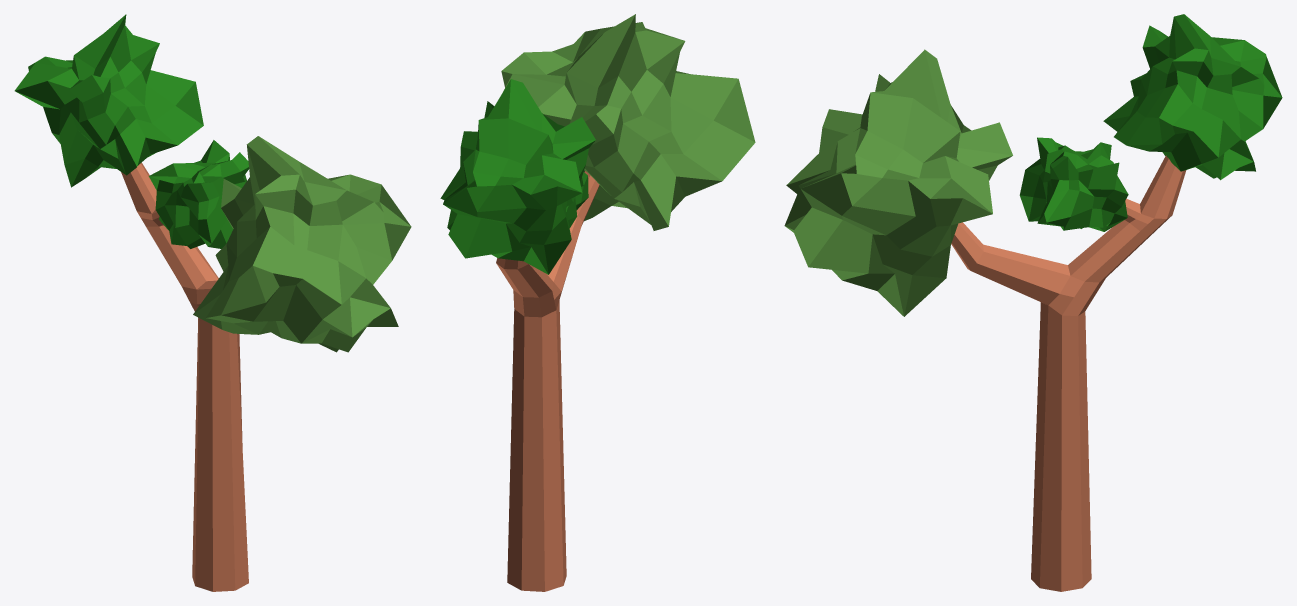
The model's file is Tree_03_summer_mat.fbx.
3 renders of one model, left to right at view 1: azimuth 30°, elevation 25°; view 2: azimuth 150°, elevation 25°; view 3: azimuth 270°, elevation 25°, orthographic. The views are drawn at different scales.
Visible parts, largest first — view 1: Tree_03_summer_mat; view 2: Tree_03_summer_mat; view 3: Tree_03_summer_mat.
Part boxes in pixels (x1,y1,x2,y2): Tree_03_summer_mat: (14, 14, 411, 591); Tree_03_summer_mat: (440, 14, 755, 591); Tree_03_summer_mat: (784, 14, 1282, 591).
Size of the model in its own units: 3.11 by 7.1 by 5.85.
